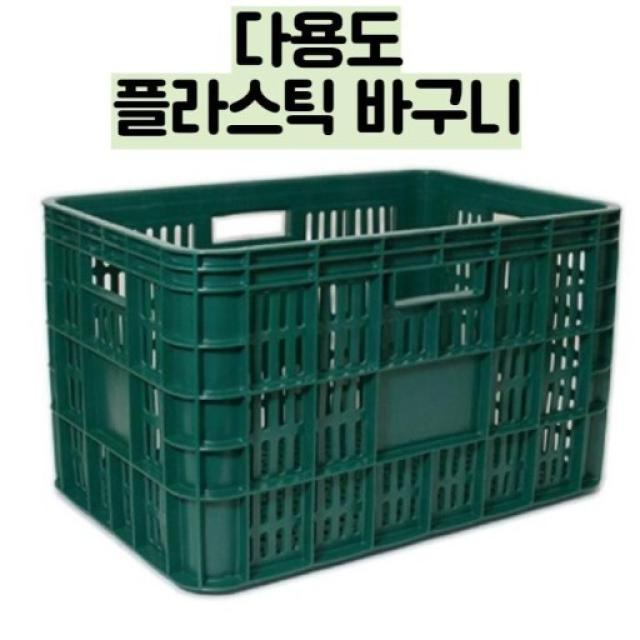basket: (45, 167, 630, 597)
